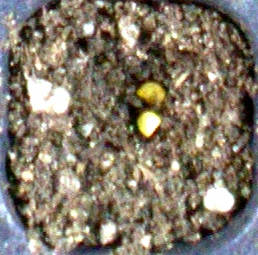chilli seed: (136, 82, 165, 104), (137, 111, 161, 137)
